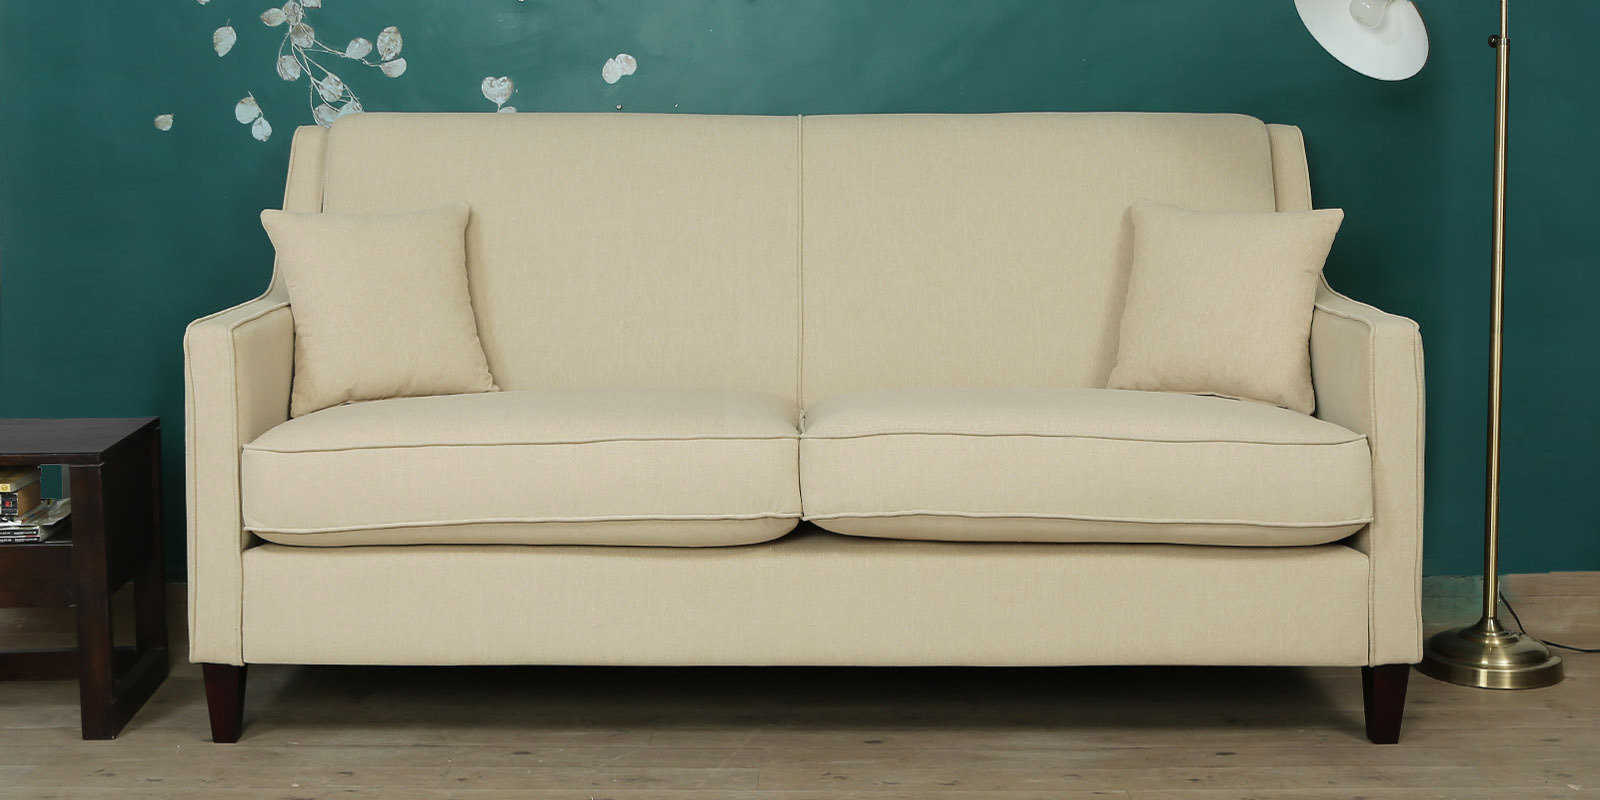Oscar Three Seater Sofa in Beige Colour by CasaCraft: (182, 111, 1424, 744)
